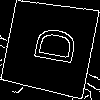D: (24, 22, 78, 67)
